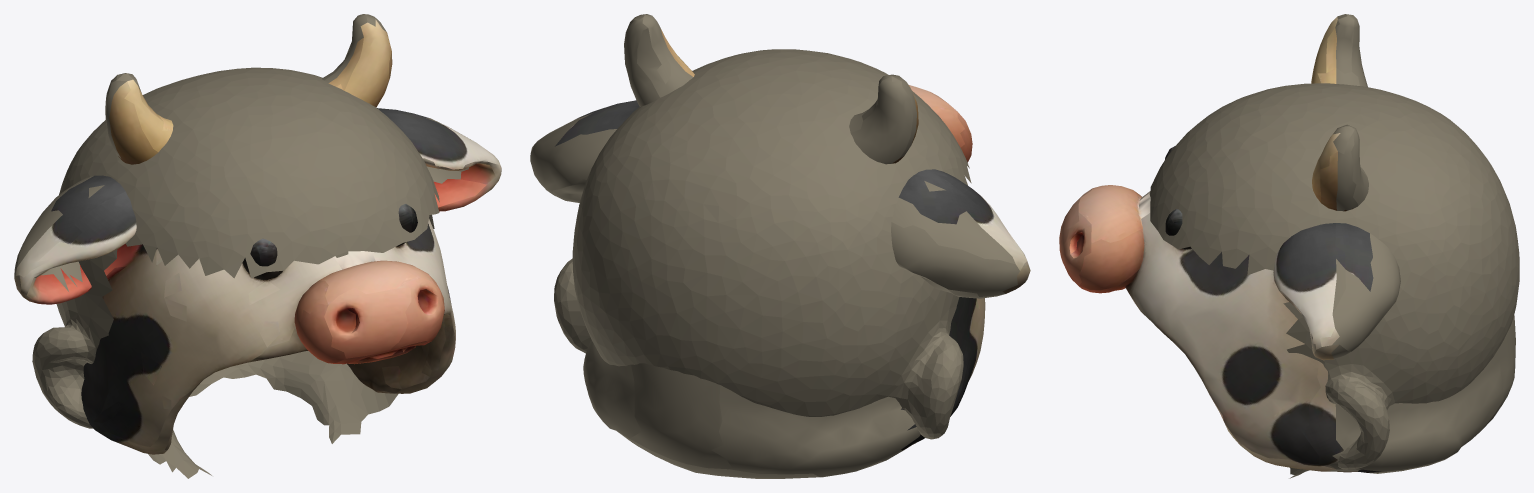
The model's file is cow.glb.
The picture shows the model from 3 angles, left to right: view 1: azimuth 30°, elevation 25°; view 2: azimuth 150°, elevation 25°; view 3: azimuth 270°, elevation 25°; orthographic projection. The views are drawn at different scales.
Visible parts, largest first — view 1: geometry_0, HoodAnatomicalLining; view 2: HoodAnatomicalLining, geometry_0; view 3: HoodAnatomicalLining, geometry_0.
Part boxes in pixels (<box>): geometry_0: <box>14,14,501,454</box>; HoodAnatomicalLining: <box>32,67,439,478</box>; HoodAnatomicalLining: <box>554,49,971,439</box>; geometry_0: <box>530,14,1030,478</box>; HoodAnatomicalLining: <box>1149,83,1519,478</box>; geometry_0: <box>1059,14,1515,473</box>.
Bounding box in the file's own units: 0.5768 × 0.4521 × 0.5017.
2 materials, 1 textured.
